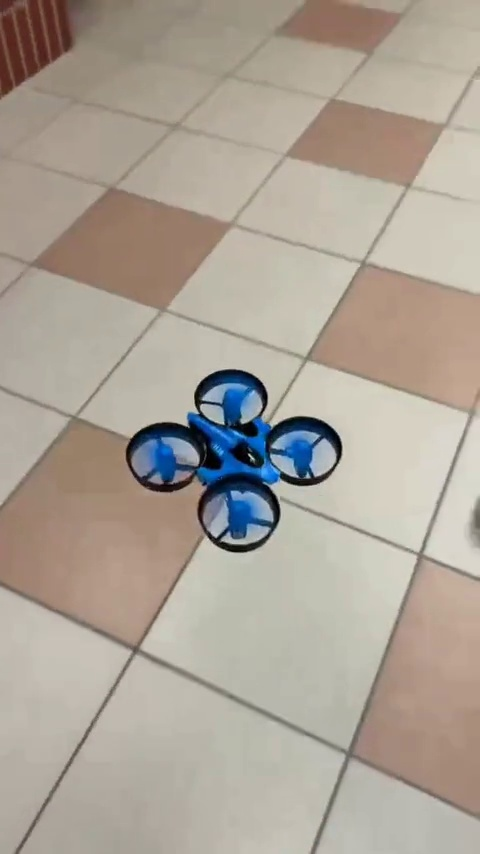drone: (131, 372, 345, 553)
